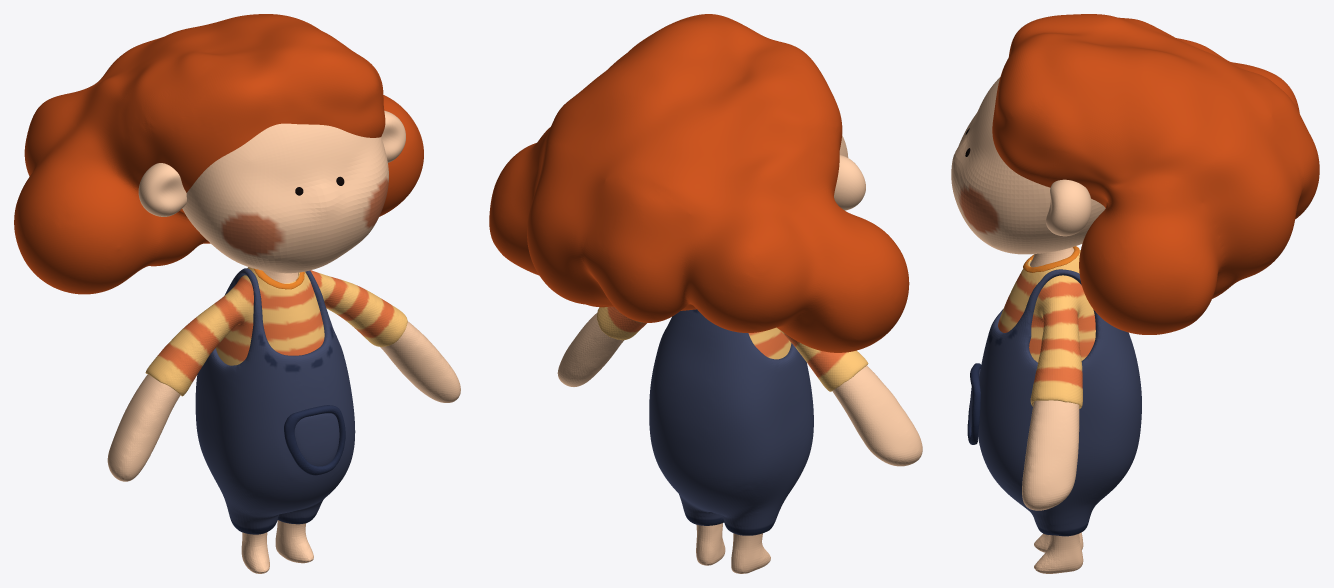
File: Project.glb
3 views of the same model, side by side, from view 1: azimuth 30°, elevation 25°; view 2: azimuth 150°, elevation 25°; view 3: azimuth 270°, elevation 25° (orthographic). The views are drawn at different scales.
Visible parts, largest first — view 1: 球体 1, 脑袋, 裤子, 短袖, 身体, 球体 (×2), 口袋里, 口袋; view 2: 球体 1, 裤子, 身体, 短袖, 球体; view 3: 球体 1, 裤子, 脑袋, 短袖, 身体, 球体, 口袋.
Part boxes in pixels (<box>): 球体 1: <box>14,14,423,294</box>; 脑袋: <box>182,123,388,273</box>; 裤子: <box>195,268,355,534</box>; 短袖: <box>145,267,407,396</box>; 身体: <box>107,270,460,573</box>; 球体 (×2): <box>138,110,405,216</box>; 口袋里: <box>294,413,339,466</box>; 口袋: <box>284,405,345,475</box>; 球体 1: <box>489,14,909,352</box>; 裤子: <box>649,309,813,535</box>; 身体: <box>557,313,922,573</box>; 短袖: <box>597,306,868,391</box>; 球体: <box>834,155,865,210</box>; 球体 1: <box>992,14,1319,334</box>; 裤子: <box>978,269,1141,536</box>; 脑袋: <box>951,77,1105,254</box>; 短袖: <box>998,250,1095,408</box>; 身体: <box>1022,247,1083,573</box>; 球体: <box>1046,179,1091,236</box>; 口袋: <box>967,363,981,444</box>.
Size of the model in its own units: 2.48 by 3.15 by 1.98.
